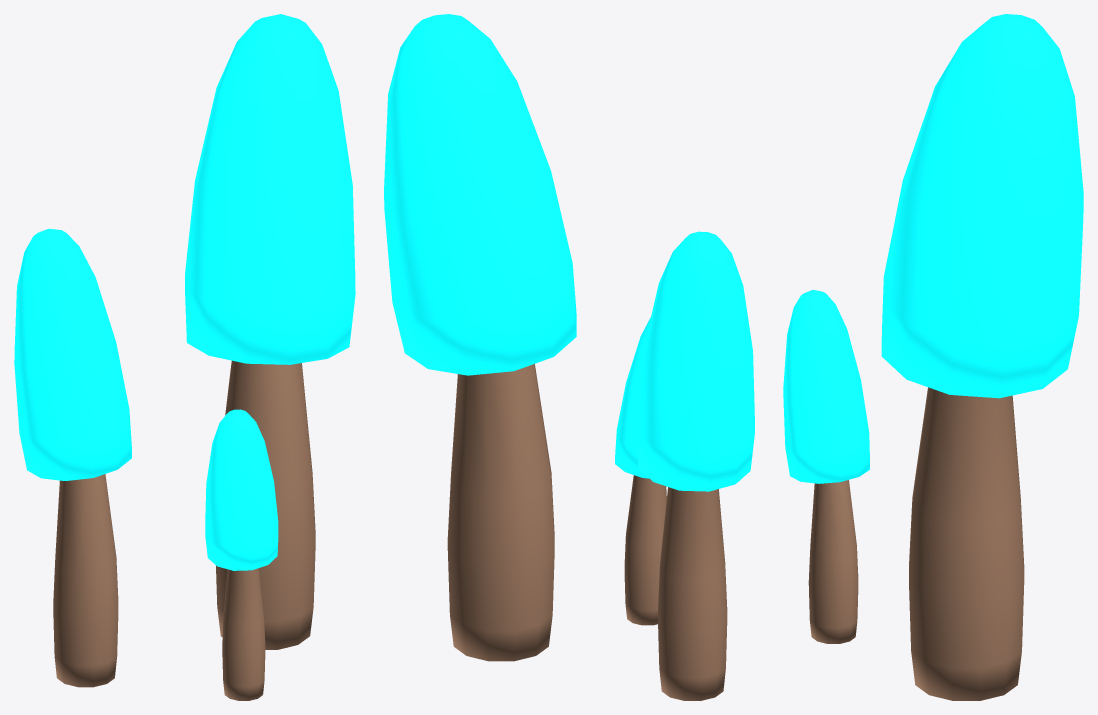
3 renders of one model, left to right at view 1: azimuth 30°, elevation 25°; view 2: azimuth 150°, elevation 25°; view 3: azimuth 270°, elevation 25°, orthographic. The views are drawn at different scales.
Parts seen in each view (by area): view 1: GiantNeonShroom05, GiantNeonShroom04, GiantNeonShroom03; view 2: GiantNeonShroom05, GiantNeonShroom04, GiantNeonShroom03; view 3: GiantNeonShroom05, GiantNeonShroom03.
Part boxes in pixels (bbox=[...]): GiantNeonShroom05: bbox=[185, 14, 355, 649]; GiantNeonShroom04: bbox=[14, 228, 131, 687]; GiantNeonShroom03: bbox=[205, 409, 278, 700]; GiantNeonShroom05: bbox=[384, 14, 576, 661]; GiantNeonShroom04: bbox=[637, 231, 754, 700]; GiantNeonShroom03: bbox=[615, 317, 666, 625]; GiantNeonShroom05: bbox=[881, 14, 1083, 700]; GiantNeonShroom03: bbox=[783, 290, 869, 643].
Size of what is drawn, in the model's own units: 2.29 by 4 by 1.6.
Materials: 2 (2 with a texture image).
